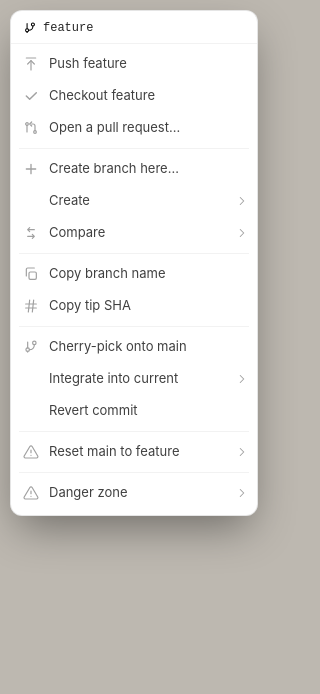
it: BranchContextMenu › offers Delete (inside Danger zone) for a local non-current branch
Expected: the menu item "Reset main to feature" is shown, [11, 436, 257, 468]
Click the menu item "Danger zone" at (134, 493), box [11, 477, 257, 509]
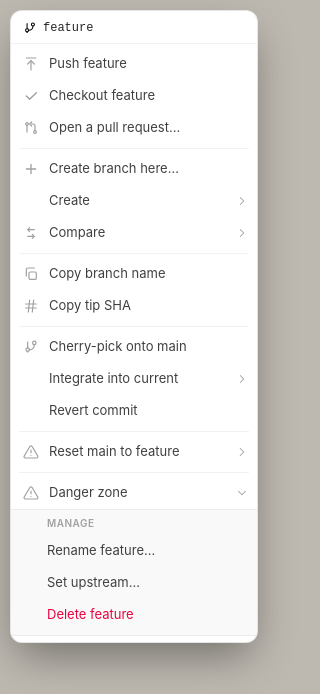
Expected: the menu item "Delete feature" is shown, [11, 599, 257, 631]
